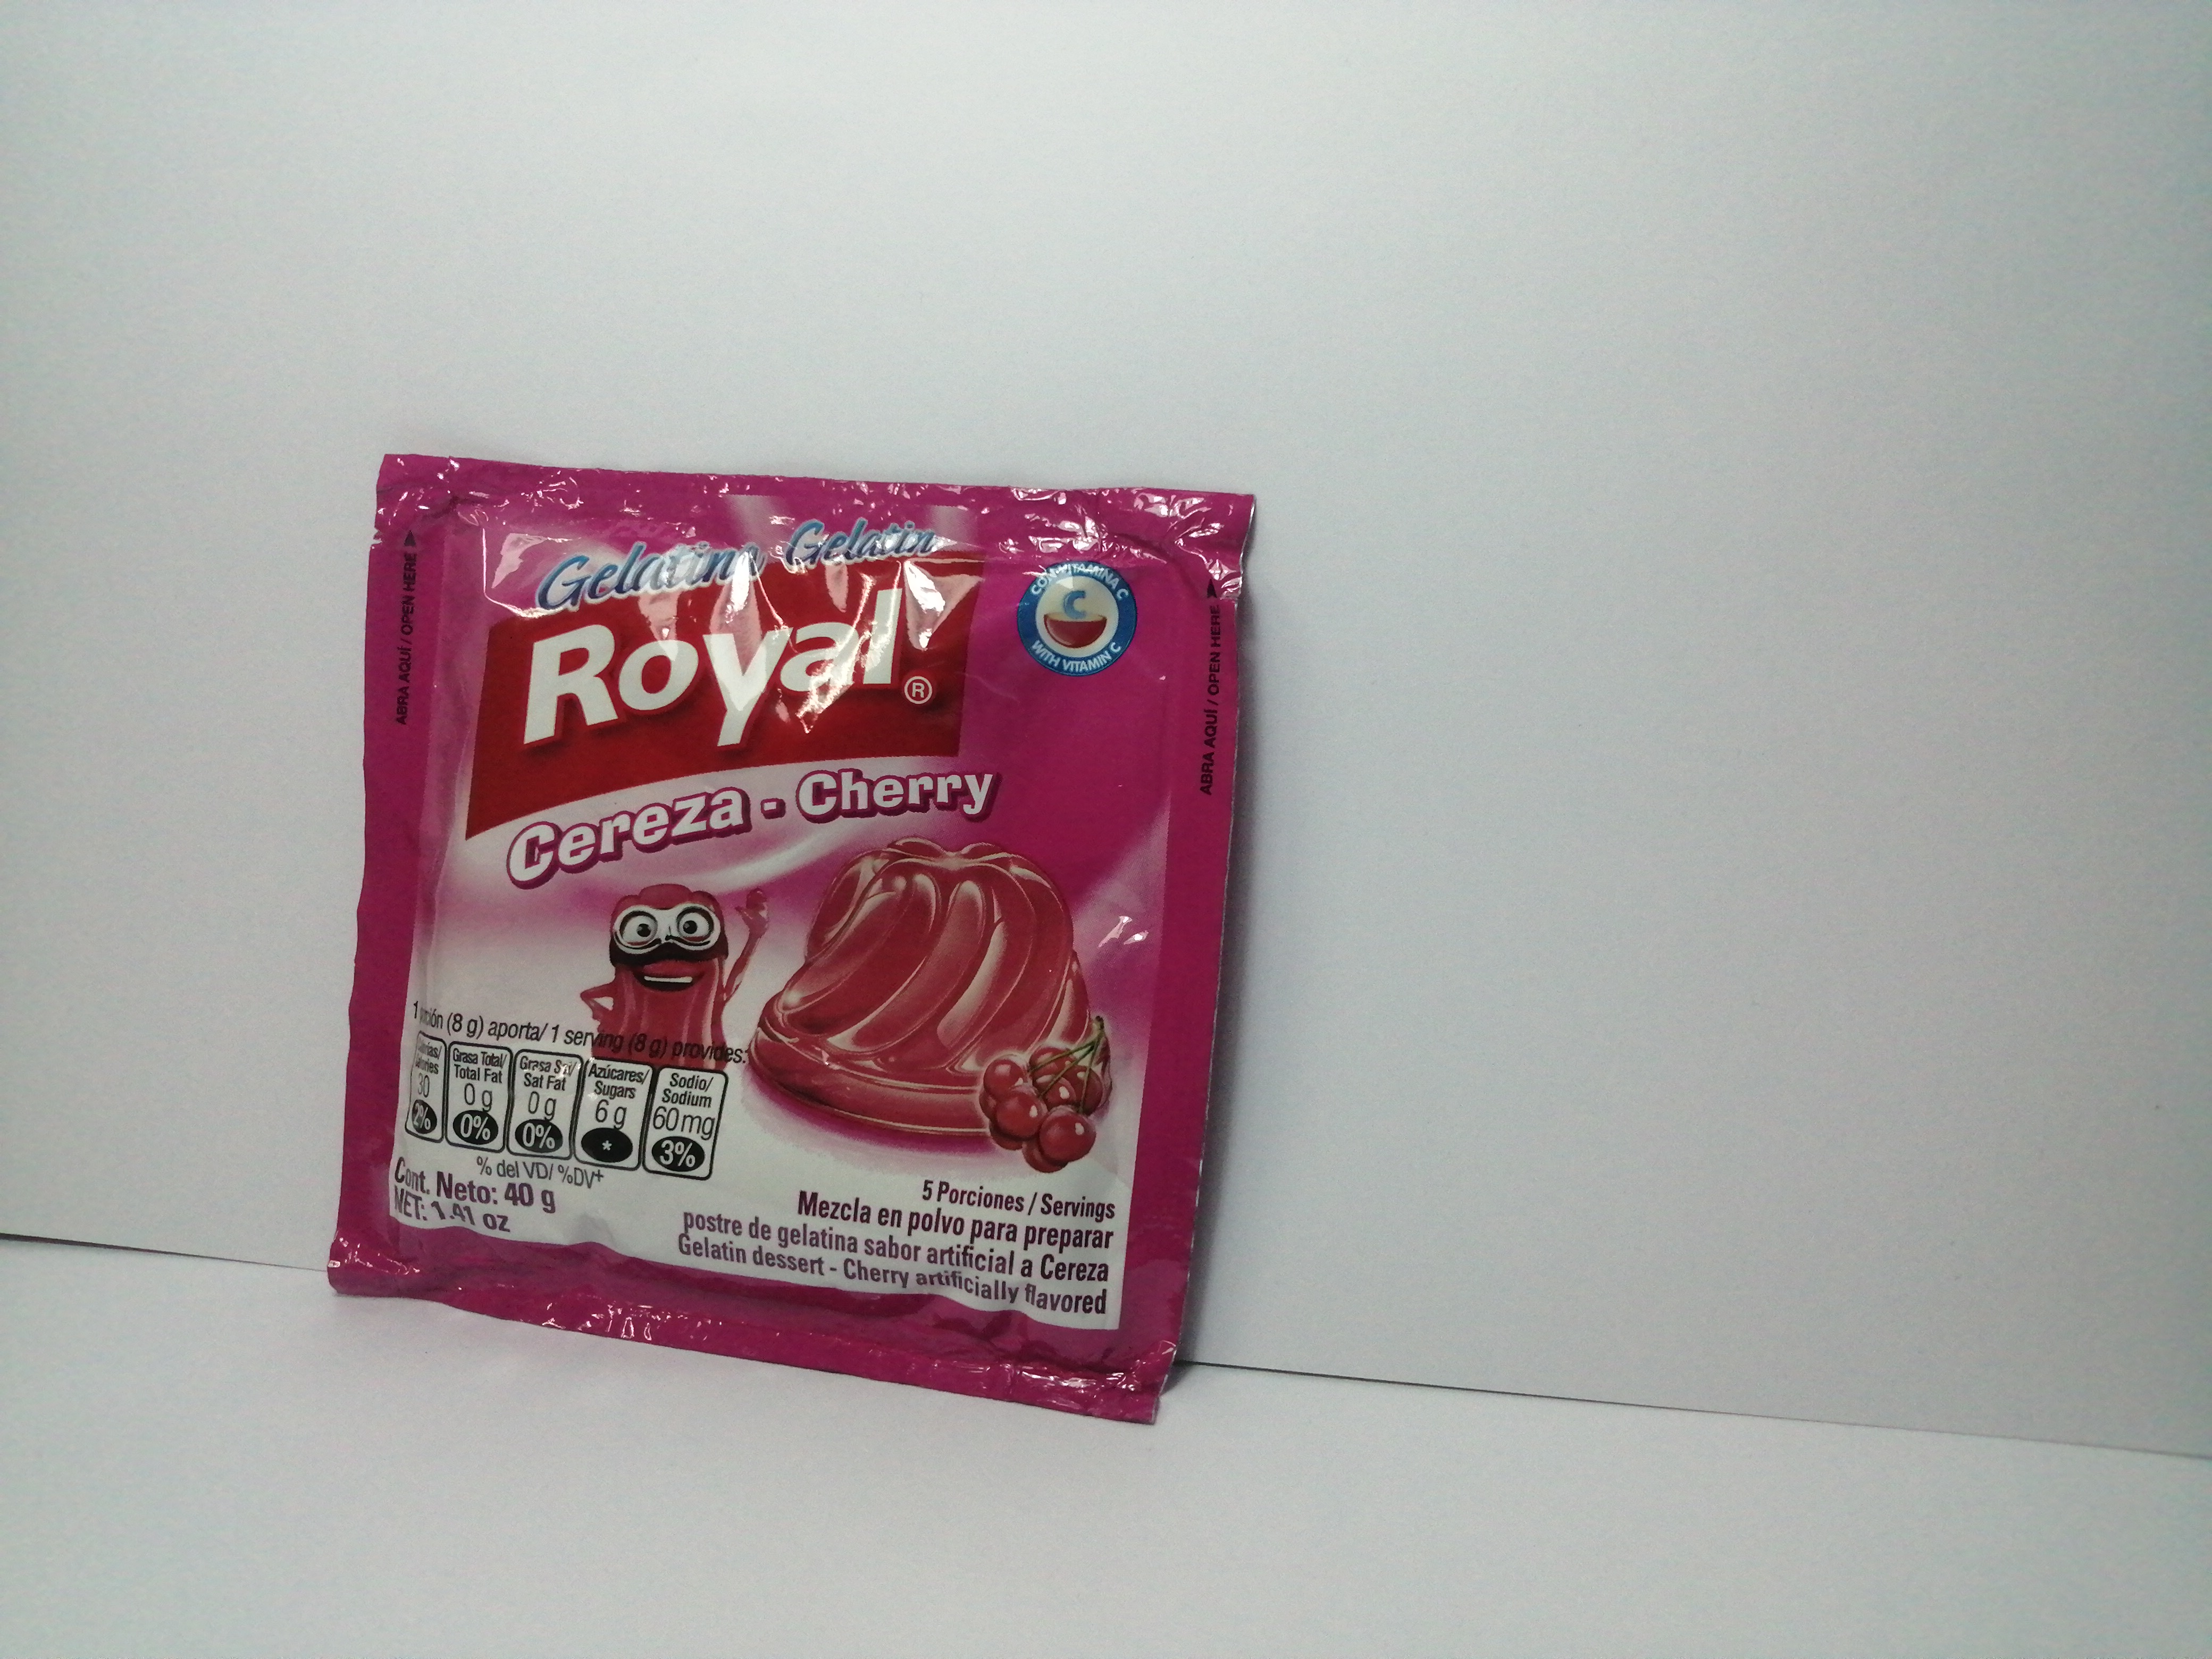gelatina: (319, 450, 1258, 1439)
